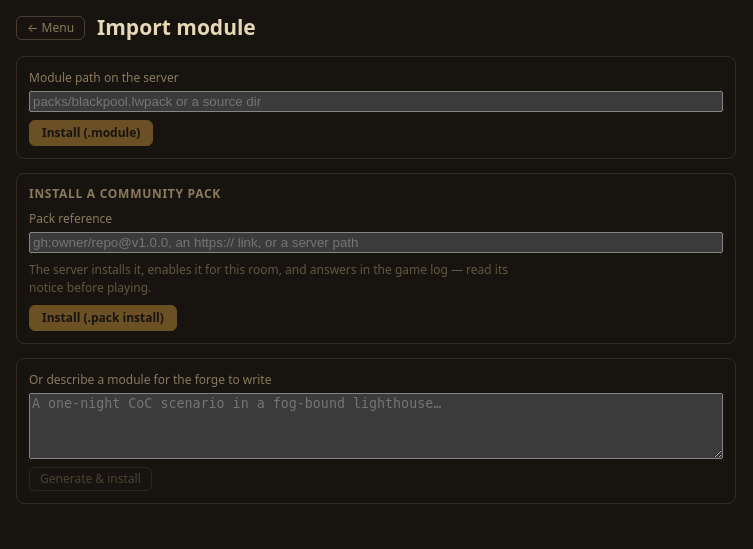
ModuleScreen — community packs › says so when the send fails, and keeps the reference typed
This screenshot has width=753, height=549.
Type "gh:1A7432/antu@v1.0.0" into the field labelled "Pack reference" at point(376, 243), box [29, 232, 723, 253]
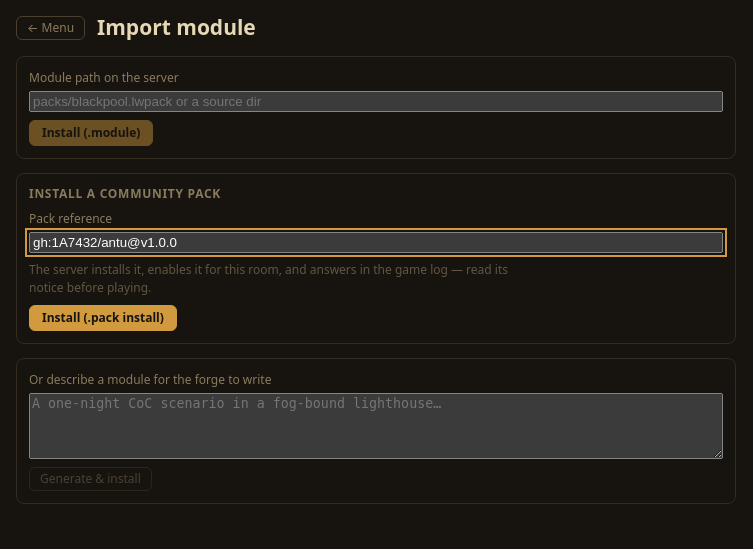
Click the button "Install (.pack install)" at point(103, 318), box [29, 305, 177, 331]
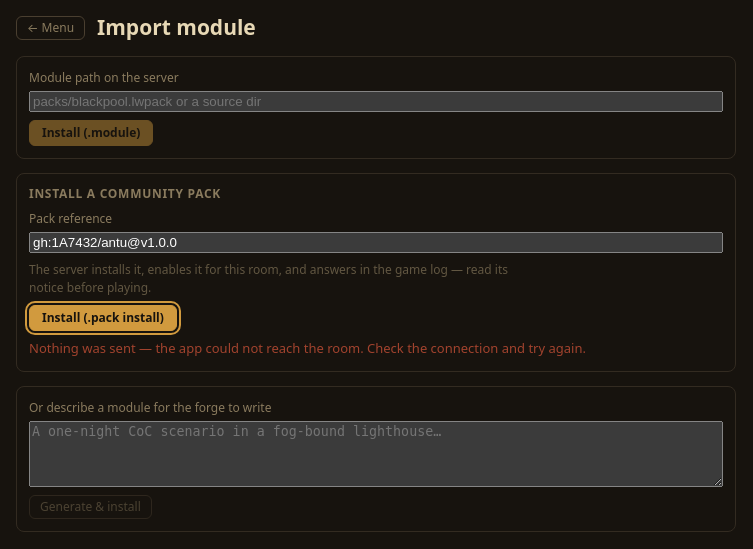
Now the text "Nothing was sent" is shown, box [29, 339, 586, 357]
